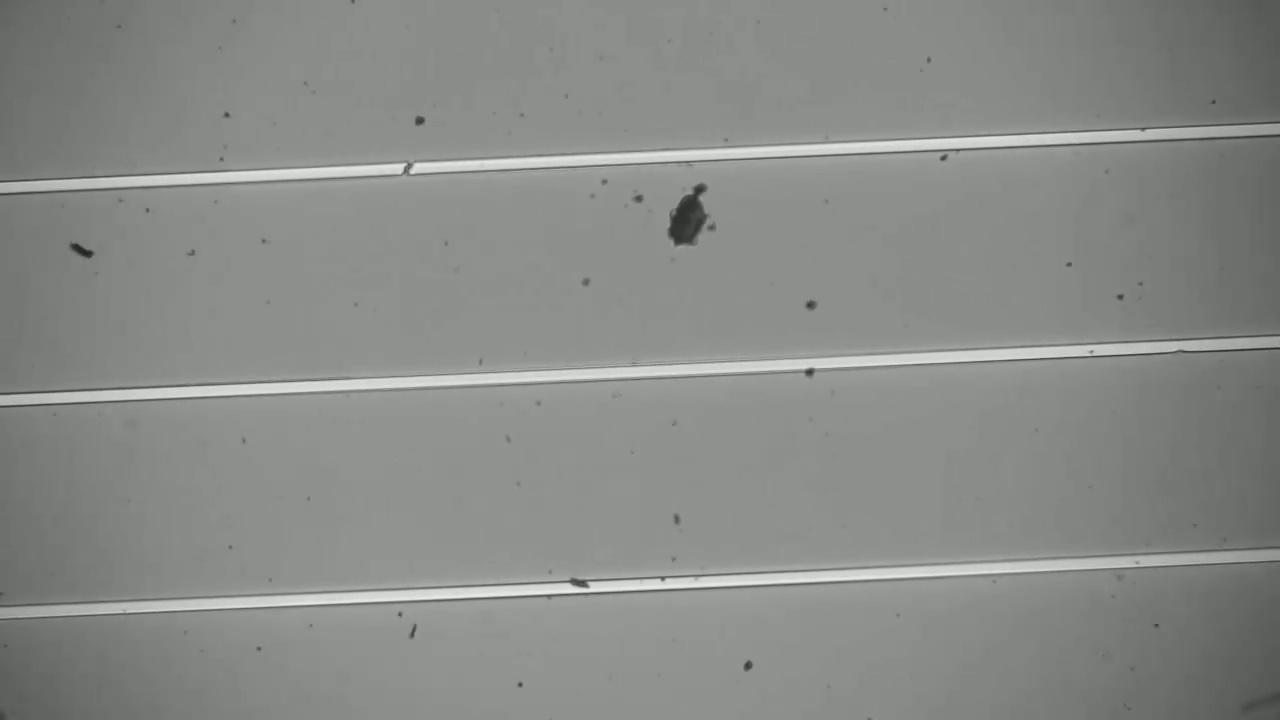stains_enbedded: (396, 155, 424, 188)
